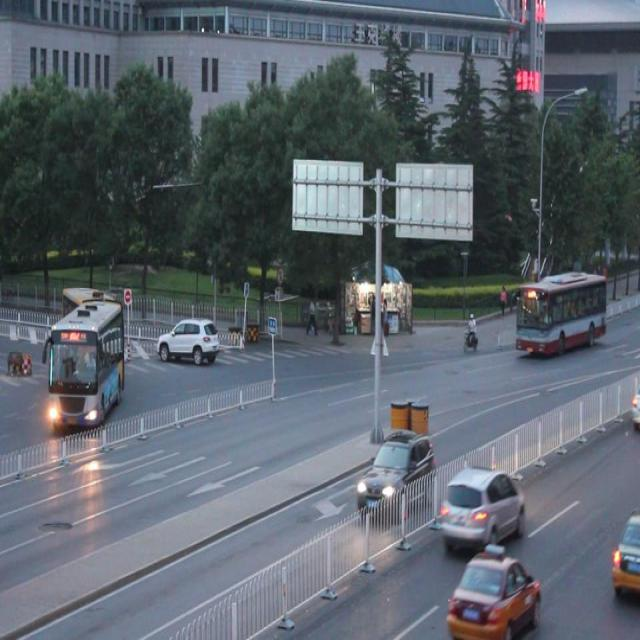car: (445, 544, 541, 640), (438, 462, 525, 547), (353, 433, 436, 520), (156, 314, 219, 365), (608, 506, 640, 596)
van: (48, 285, 126, 423), (513, 275, 606, 354)
